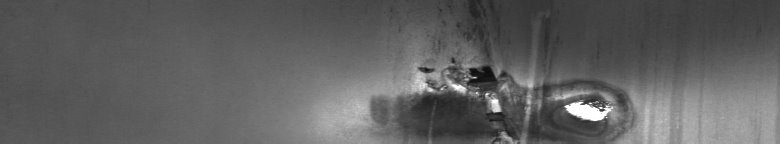ke: (413, 58, 625, 136)
